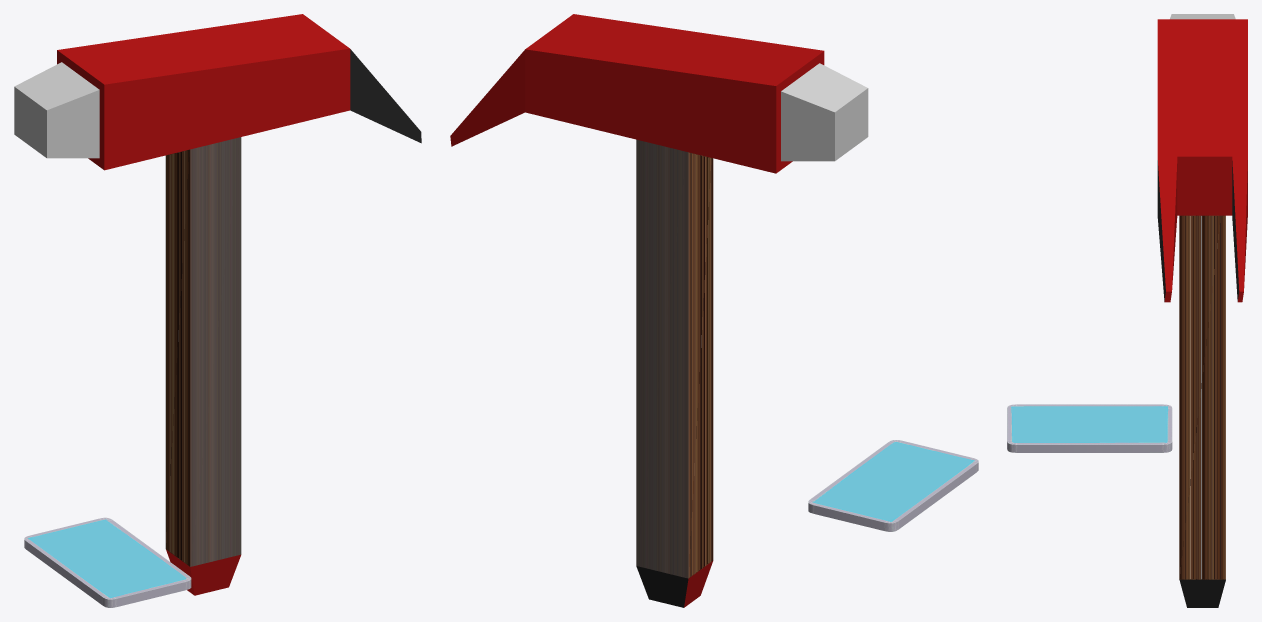
The model's file is hammer + phone.fbx.
3 views of the same model, side by side, from view 1: azimuth 30°, elevation 25°; view 2: azimuth 150°, elevation 25°; view 3: azimuth 270°, elevation 25° (orthographic). The views are drawn at different scales.
Parts seen in each view (by area): view 1: Box014, Box013; view 2: Box014, Box013; view 3: Box014, Box013.
Boxes of the visible parts, left/top/right/bottom form: Box014: left=14, top=14, right=421, bottom=595; Box013: left=24, top=517, right=191, bottom=607; Box014: left=450, top=14, right=868, bottom=607; Box013: left=808, top=440, right=978, bottom=531; Box014: left=1157, top=14, right=1247, bottom=607; Box013: left=1007, top=404, right=1172, bottom=452.
Size of the model in its own units: 48.41 by 63.94 by 26.67.
5 materials, 2 textured.
